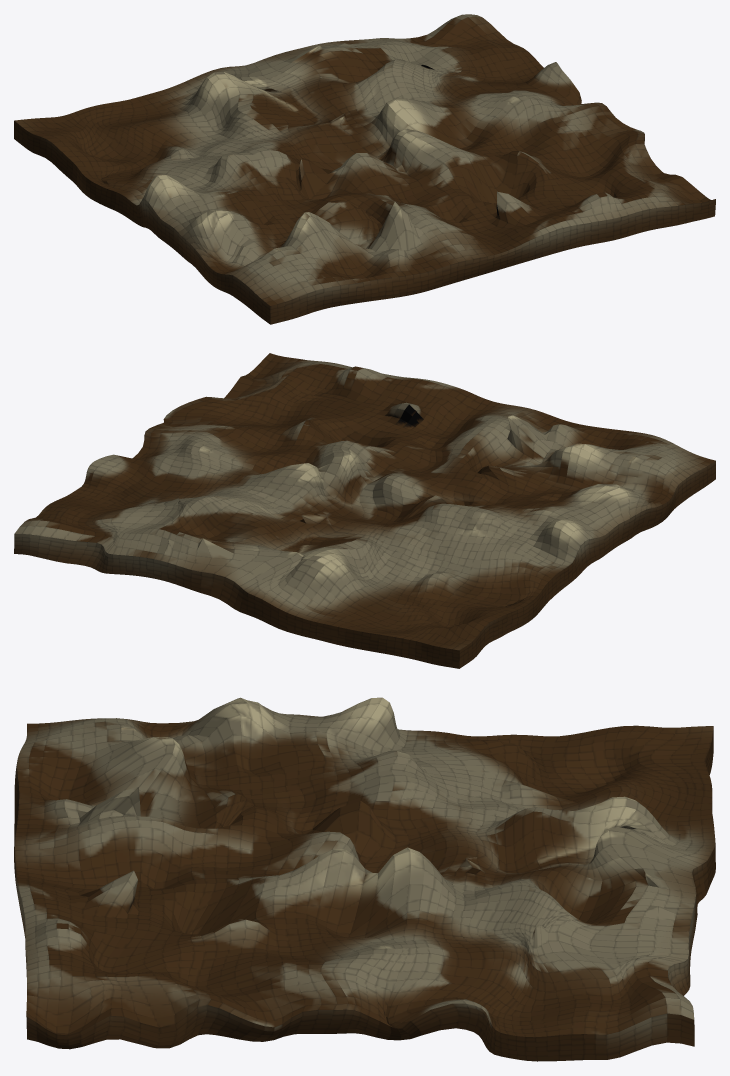
Rendered from terrain.gltf.
3 views of the same model, one above another, from view 1: azimuth 30°, elevation 25°; view 2: azimuth 150°, elevation 25°; view 3: azimuth 270°, elevation 25° (orthographic). The views are drawn at different scales.
Visible parts, largest first — view 1: Ground; view 2: Ground; view 3: Ground.
Boxes of the visible parts, left/top/right/bottom form: Ground: left=14, top=14, right=715, bottom=324; Ground: left=14, top=353, right=715, bottom=668; Ground: left=14, top=697, right=715, bottom=1061.
Bounding box in the file's own units: 1821 × 274 × 1774.
1 material, 1 textured.
